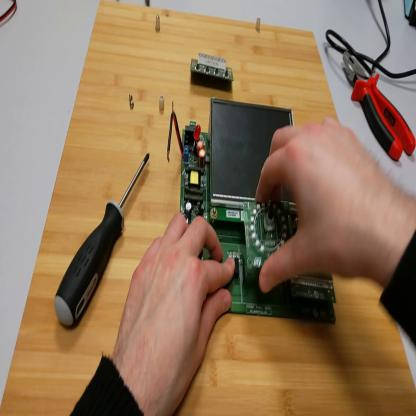hand: (116, 211, 235, 415), (255, 117, 392, 292)
low voltage board: (167, 95, 338, 323)
pliers: (345, 52, 416, 163)
screwdriver-: (55, 148, 152, 331)
welder station: (404, 2, 416, 28)
working area: (1, 1, 416, 416)
